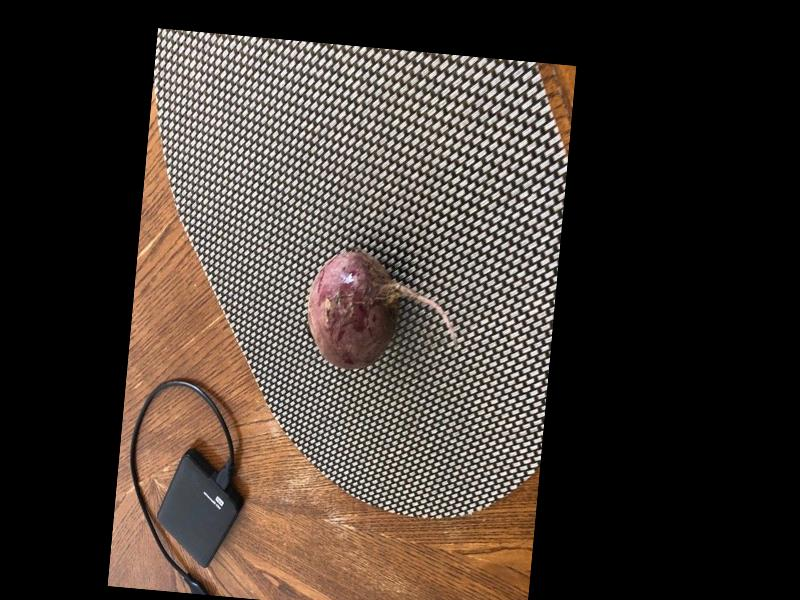Beet: (303, 247, 465, 377)
